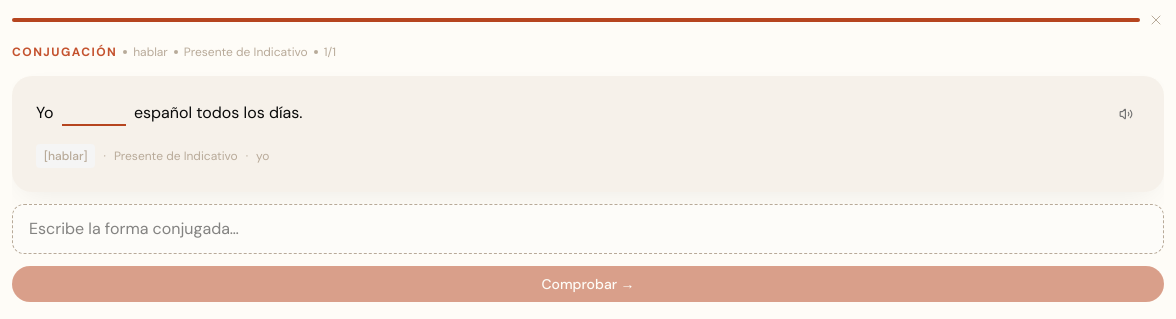
Test case: VerbSession › shows inline success display on correct answer
The image size is (1176, 319).
Type "hablo" into the field with placeholder "Escribe la forma conjugada…" at point(588, 229), box [29,217,1147,241]
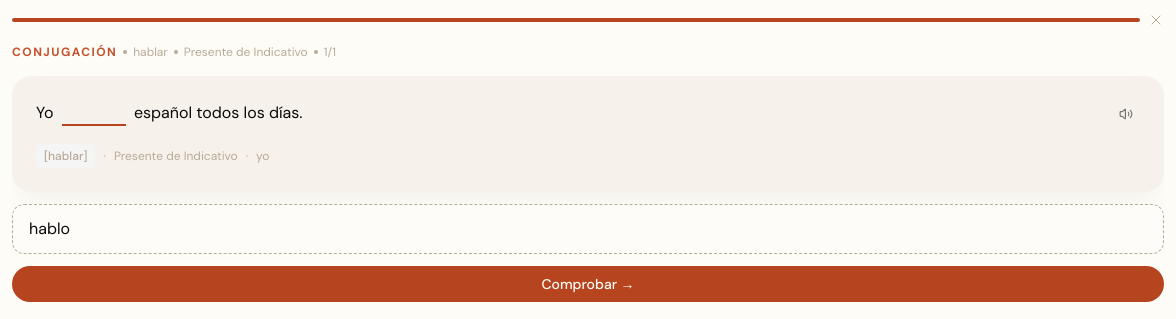
Click the button "Comprobar →" at point(588, 284), box [12,266,1164,302]
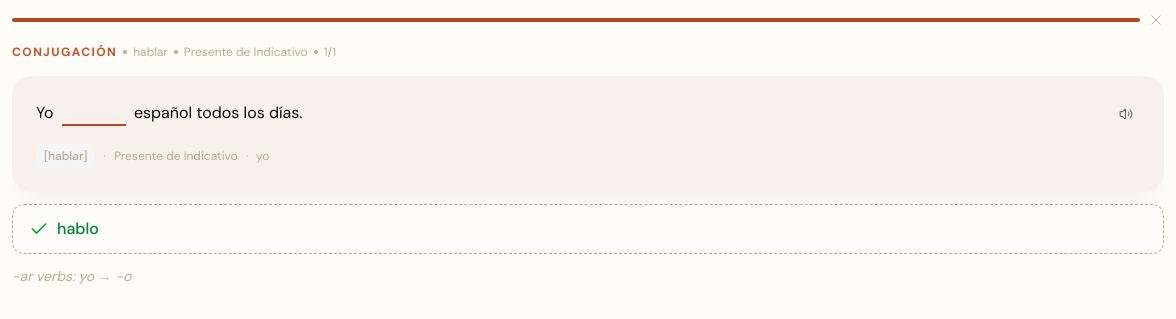
expect the field with placeholder "Escribe la forma conjugada" is not shown: met
expect the text "hablo" is shown: met, box [57,217,99,241]
expect the button "Comprobar" is gone: met
